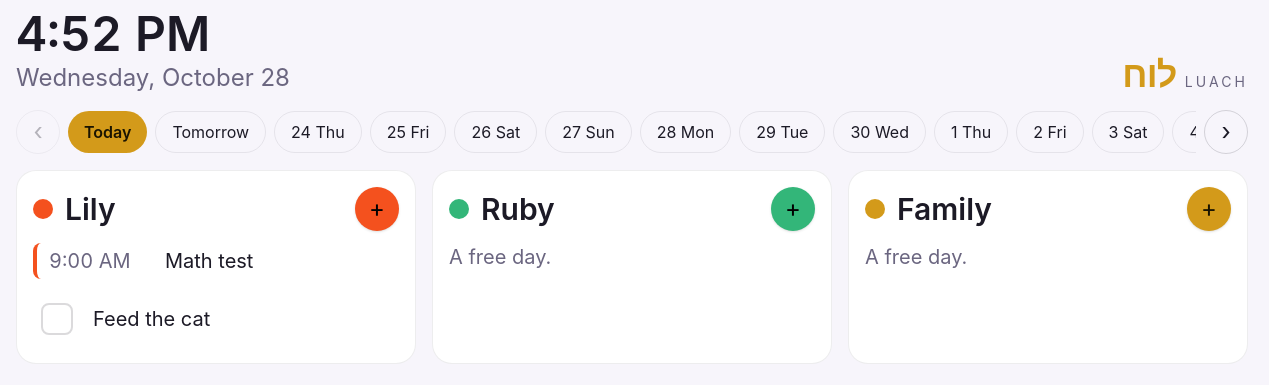
Test case: holding a card on the board › a long press lifts it: a card follows the finger, the original fades, and it buzzes and says so
Check: the element "Lily" is shown, box [16,170,416,364]
Press the mouse on the list item "Feed the cat" at (216, 319), box [33,291,399,347]
Wait 460 ms
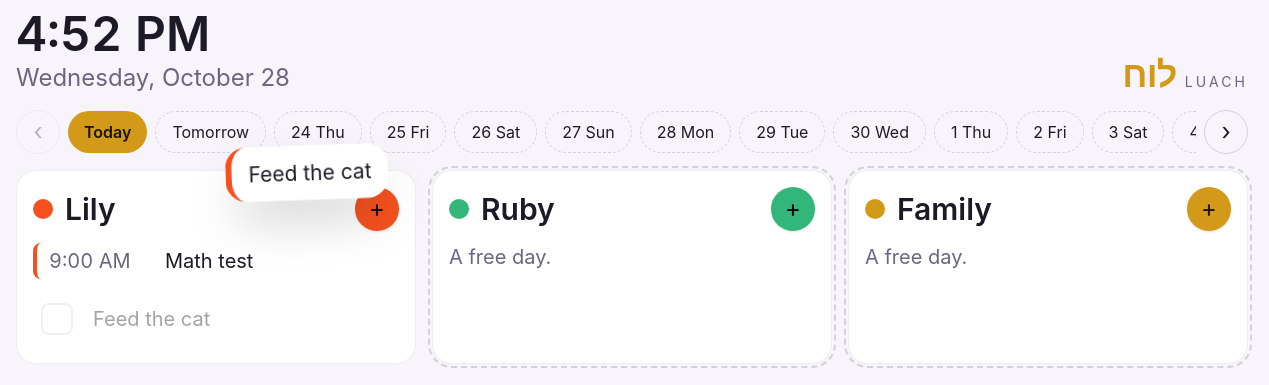
Check: the 1st element showing "Feed the cat" is shown, box [224,142,389,203]
